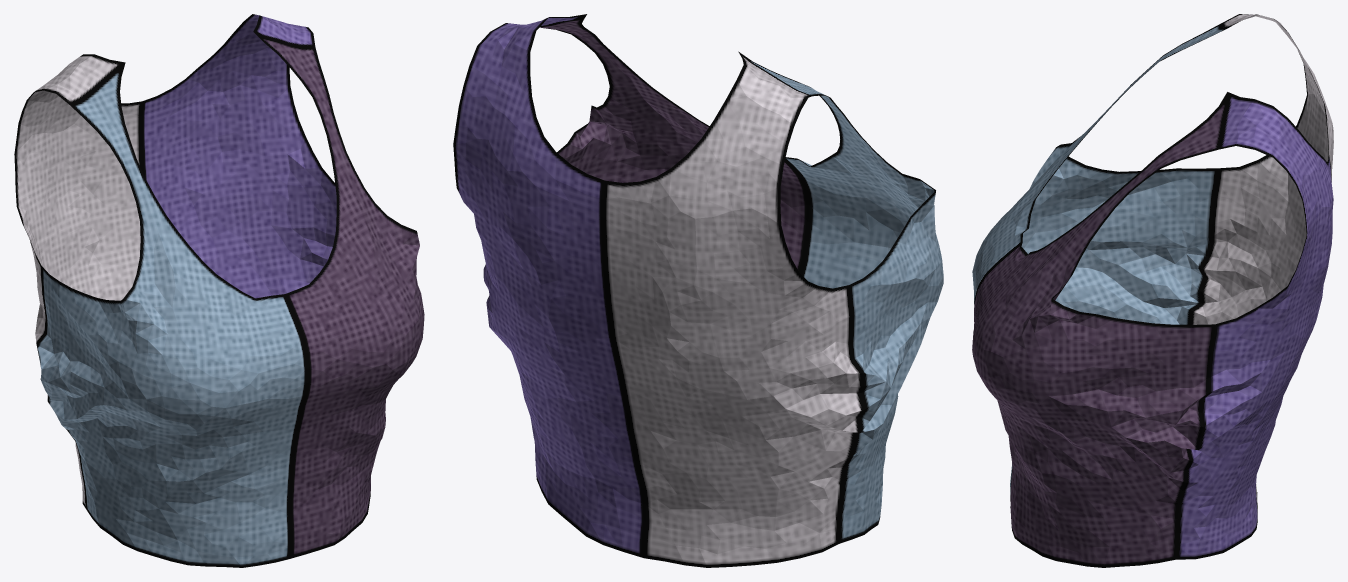
Rendered from tank_knit4_r60_sim.obj.
3 renders of one model, left to right at view 1: azimuth 30°, elevation 25°; view 2: azimuth 150°, elevation 25°; view 3: azimuth 270°, elevation 25°, orthographic. The views are drawn at different scales.
Size of the model in its own units: 22.54 by 28.6 by 20.34.
Materials: 1 (1 with a texture image).
